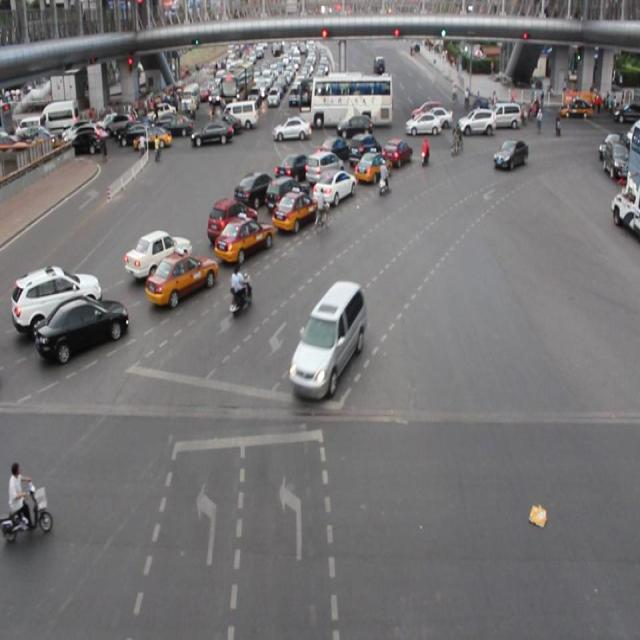car: (290, 282, 365, 392), (12, 269, 102, 334), (37, 296, 131, 351), (145, 254, 217, 298), (125, 231, 192, 276), (216, 215, 274, 260), (207, 198, 257, 241), (272, 190, 316, 231), (266, 178, 309, 212), (304, 149, 343, 185), (235, 171, 276, 204), (313, 172, 354, 205), (356, 150, 390, 184), (349, 131, 381, 166), (492, 139, 528, 170), (276, 151, 311, 181), (380, 138, 411, 170), (320, 136, 352, 166)
